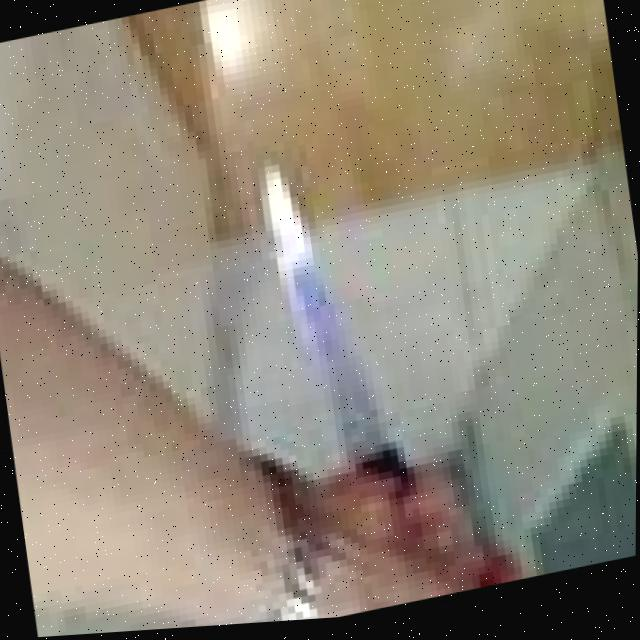knife: (252, 147, 402, 491)
